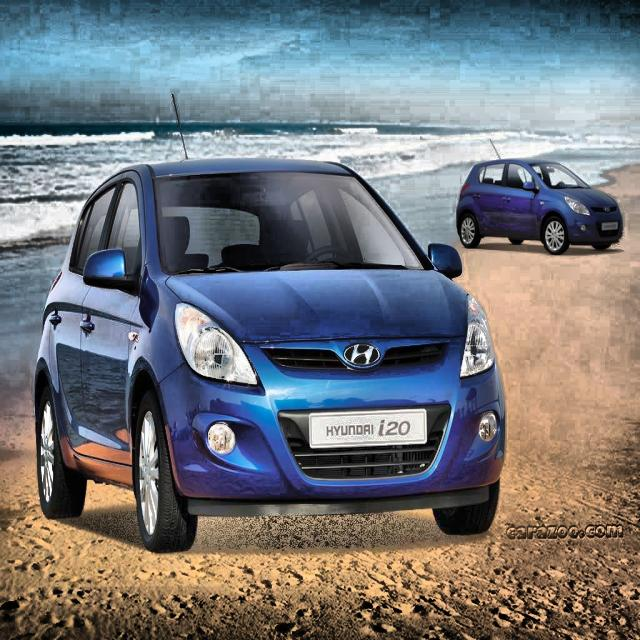Car: (456, 158, 623, 254)
